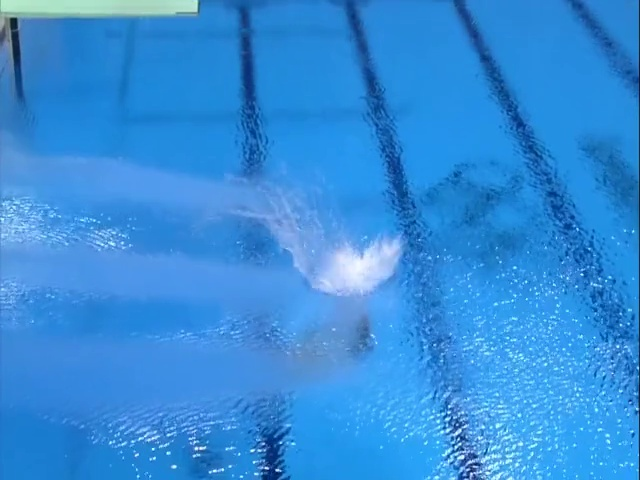splash: (218, 160, 403, 296)
